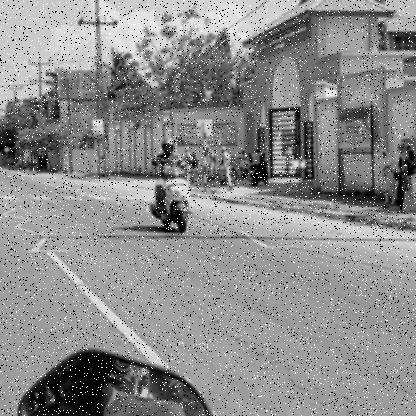motorcycle: (147, 164, 196, 235)
